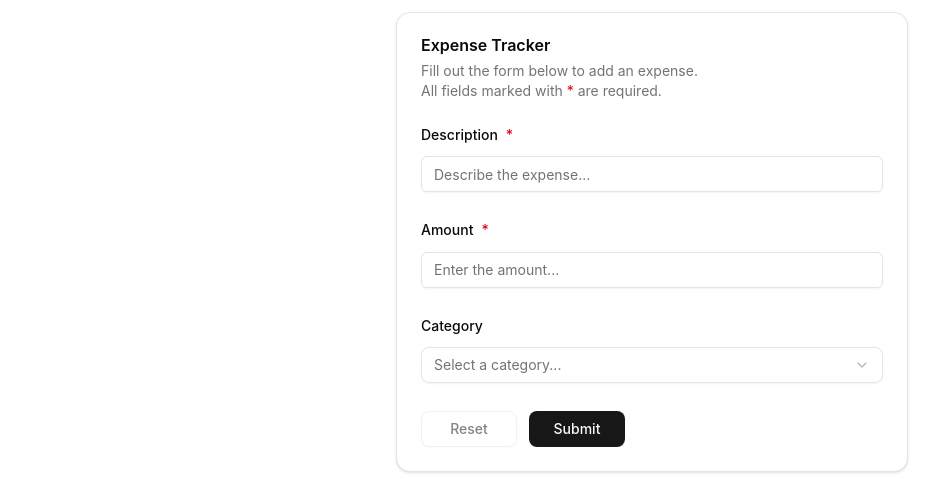
ExpenseTrackerForm › form submission › shows success screen after valid form submission
The width and height of the screenshot is (925, 490).
Type "Valid description" into the field labelled "Description *".
click(652, 174); type("Valid description")  # box [421,156,883,192]
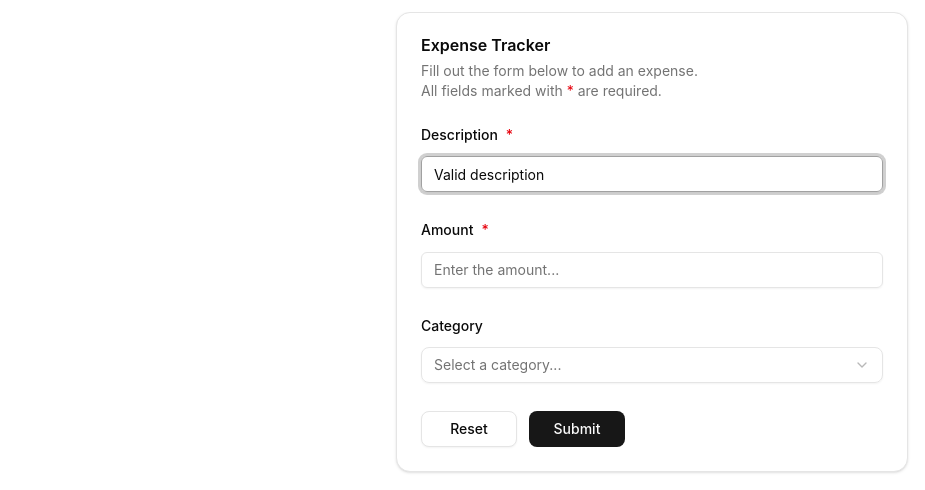
Type "10.99" into the number field labelled "Amount *".
click(652, 270); type("10.99")  # box [421,252,883,288]
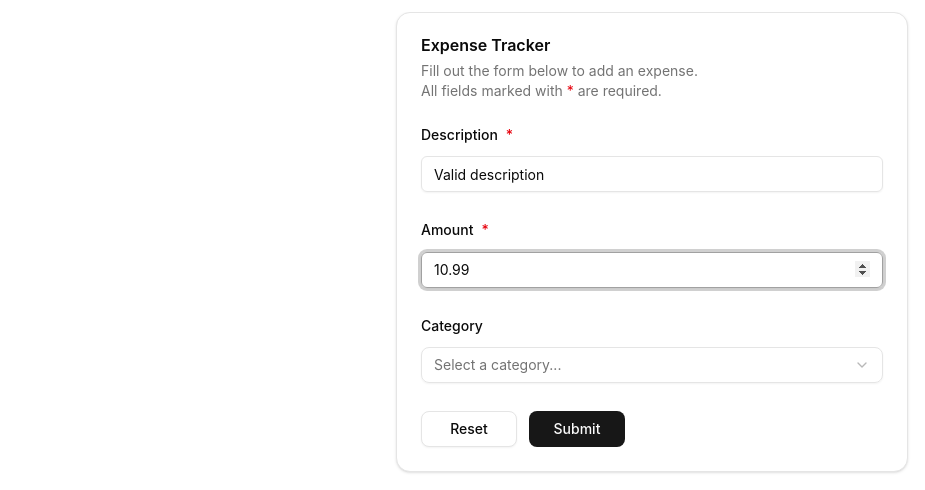
Click the dropdown with test id "select-trigger-category".
click(498, 364)  # box [421,347,883,383]
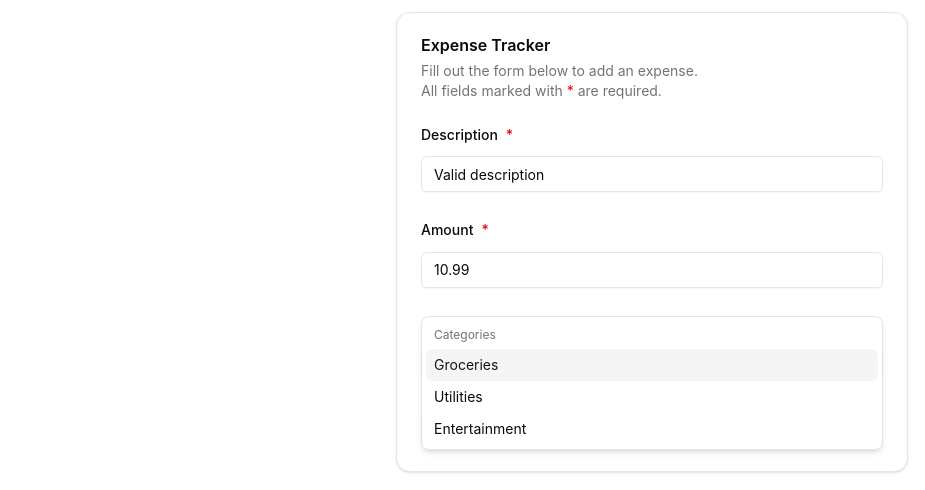
Click the option "Groceries".
click(466, 364)  # box [426,349,878,381]
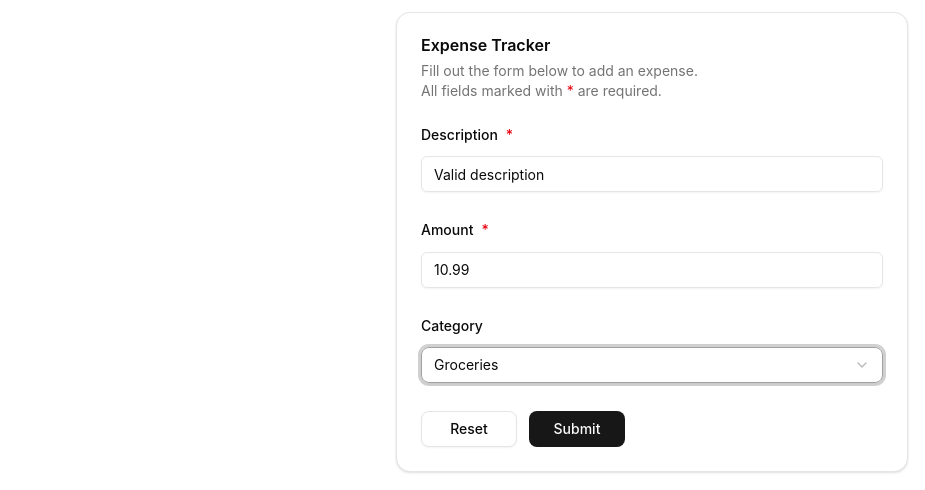
Expected: the list is gone
Click the button "Submit".
click(577, 429)  # box [529,411,625,447]
Wait 3001 ms
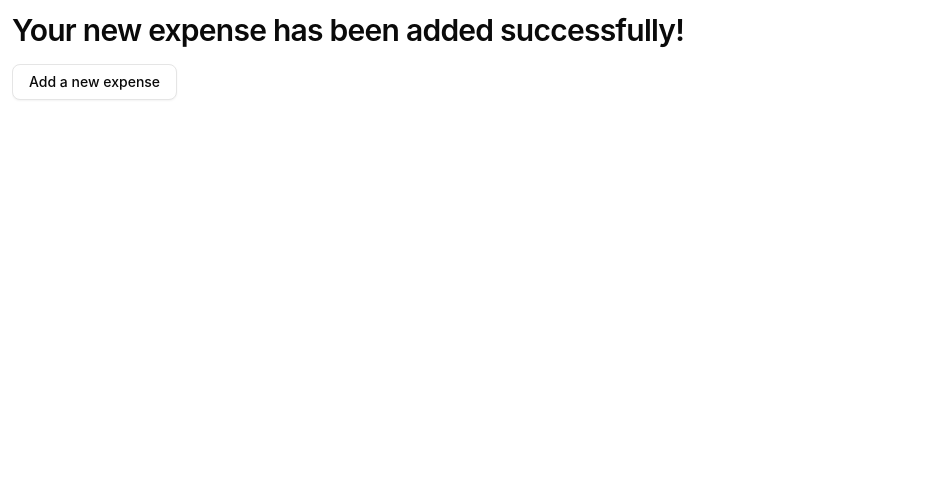
Expected: the heading "Your new expense has been added successfully!" is shown, [12,12,684,48]
Expected: the button "Add a new expense" is shown, [12,64,177,100]
